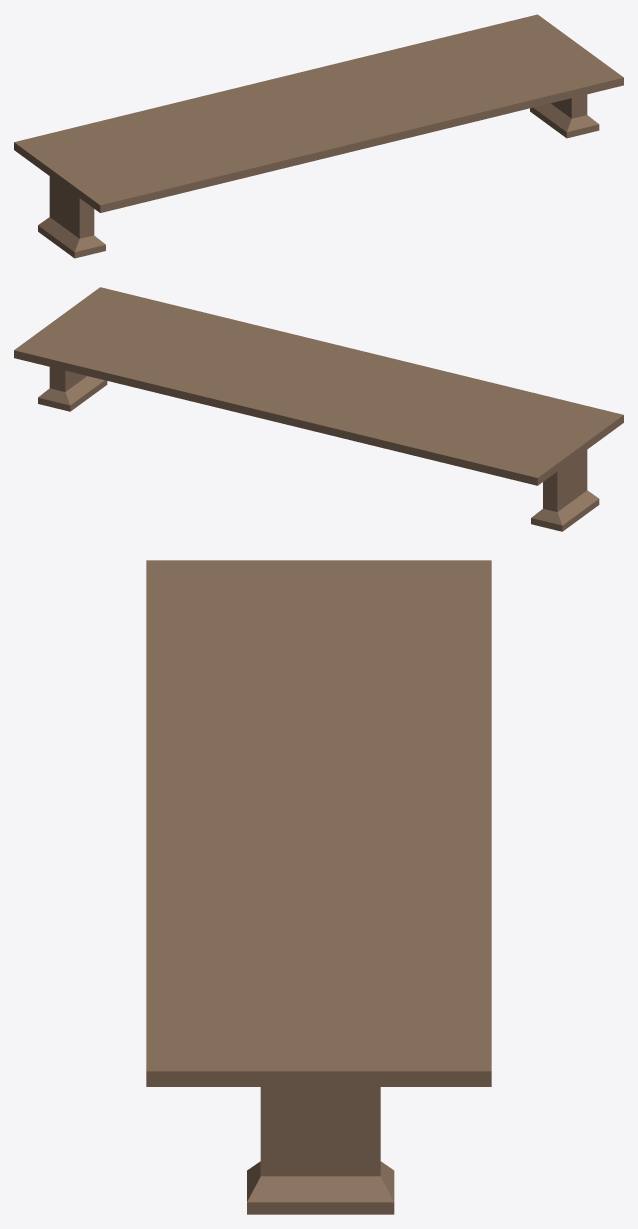
Rendered from big table.FBX.
3 views of the same model, one above another, from view 1: azimuth 30°, elevation 25°; view 2: azimuth 150°, elevation 25°; view 3: azimuth 270°, elevation 25° (orthographic). The views are drawn at different scales.
Visible parts, largest first — view 1: Box010; view 2: Box010; view 3: Box010.
Boxes of the visible parts, <box> form: Box010: <box>14,14,623,258</box>; Box010: <box>14,287,623,531</box>; Box010: <box>146,560,491,1214</box>.
Size of the model in its own units: 348 by 45.26 by 99.04.
